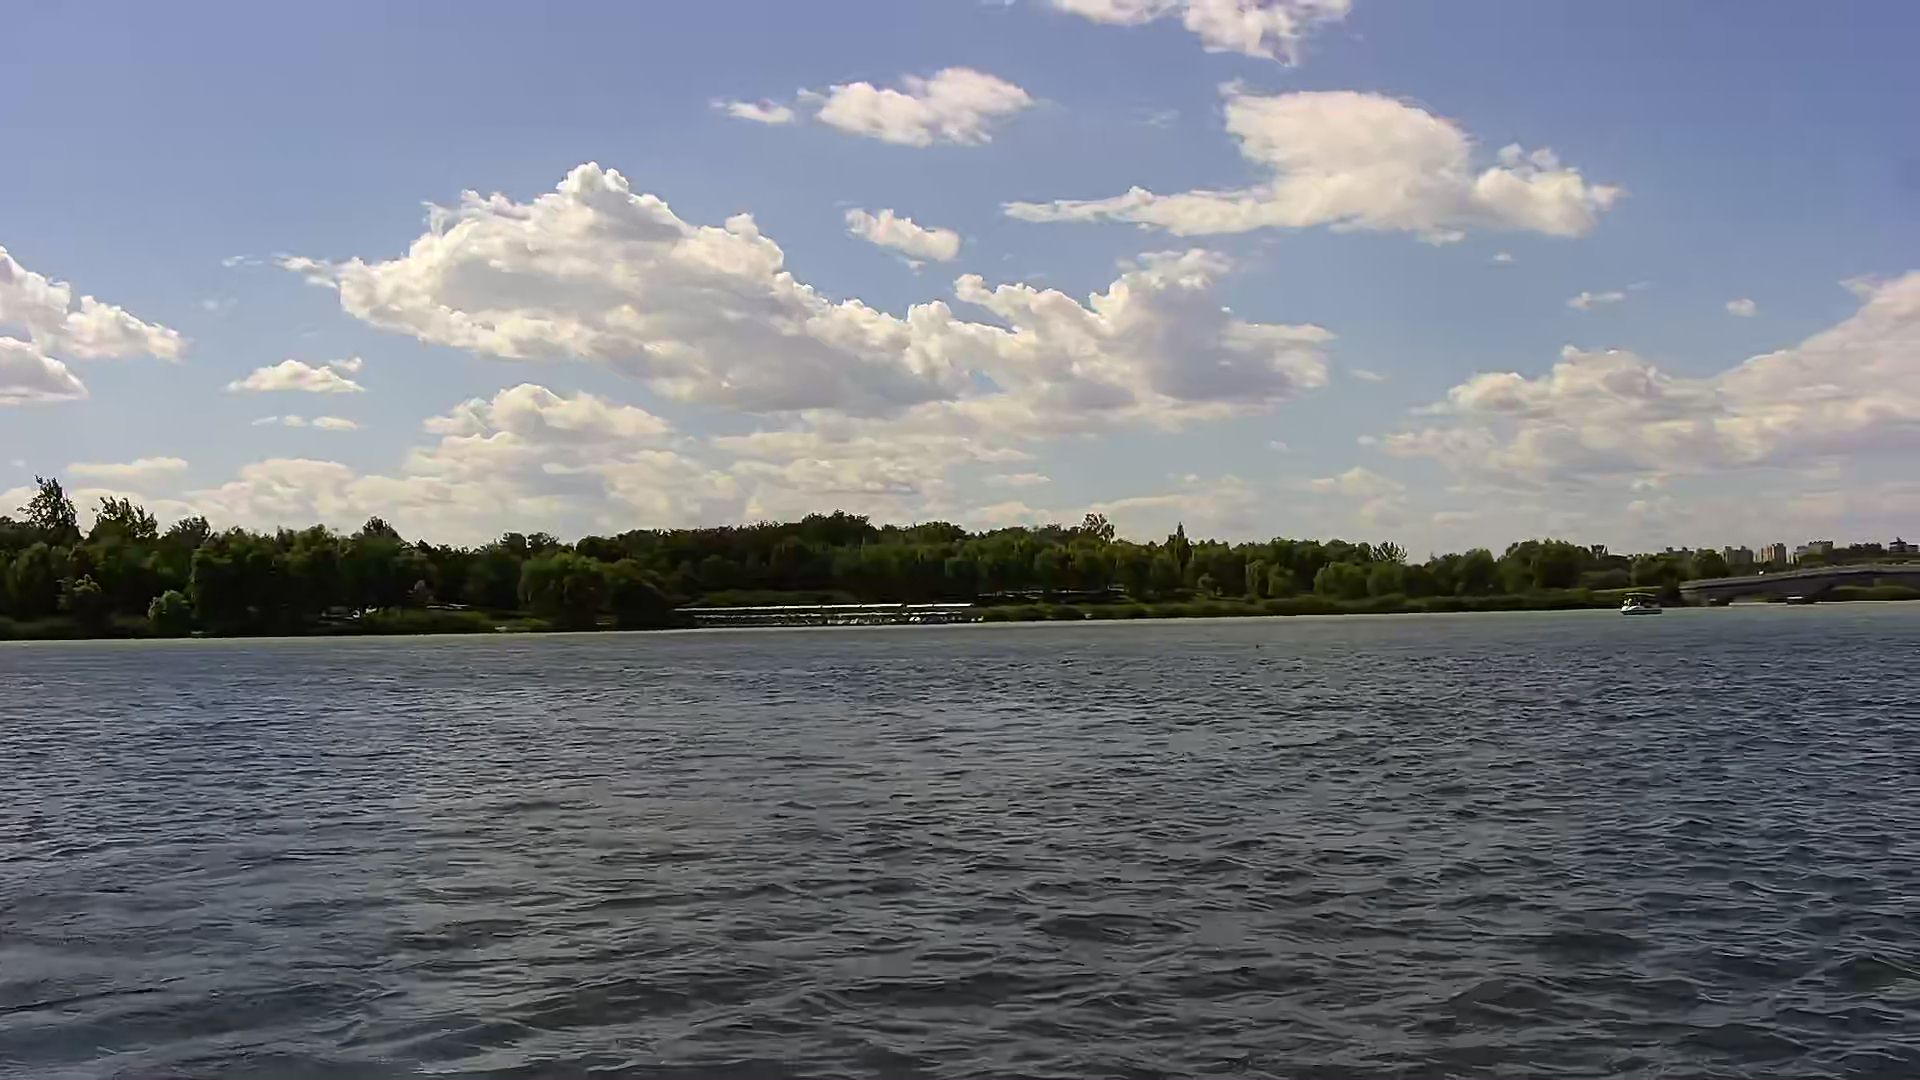boat: (1619, 593, 1668, 616)
bridge: (1673, 559, 1920, 607), (690, 601, 977, 626)
